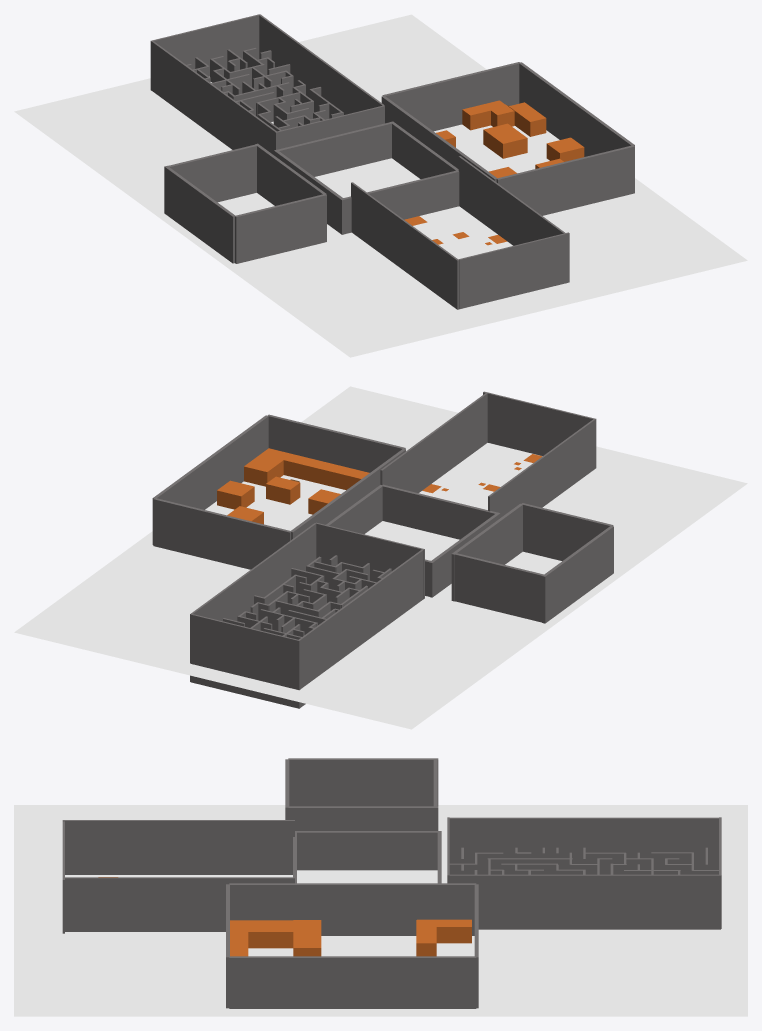
The model's file is blockout.fbx.
3 views of the same model, one above another, from view 1: azimuth 30°, elevation 25°; view 2: azimuth 150°, elevation 25°; view 3: azimuth 270°, elevation 25° (orthographic). The views are drawn at different scales.
Parts seen in each view (by area): view 1: Plane, Cube__2__2, Cube__1_, Cube__94_, Cube__93_, Cube__3__2, Cube__6_, Cube__95_, Cube__1__2, Cube, Cube__4_, Cube__2__1 (+12 smaller); view 2: Plane, Cube__2_, Cube__1_, Cube__3__2, Cube__95_, Cube__94_, Cube__7_, Cube__93_, Cube__2__2, Cube__1__2, Cube, Cube__4_ (+11 smaller); view 3: Plane, Cube, Cube__1__2, Cube__94_, Cube__1_, Cube_2, Cube__95_, Cube__4_, Cube__1__1, Cube__5_, Cube__3__3, Cube__4__2 (+8 smaller).
Part boxes in pixels (<box>): Plane: <box>14,14,747,357</box>; Cube__2__2: <box>496,145,634,215</box>; Cube__1_: <box>151,40,276,154</box>; Cube__94_: <box>351,182,459,309</box>; Cube__93_: <box>458,232,569,309</box>; Cube__3__2: <box>382,62,519,131</box>; Cube__6_: <box>235,194,326,263</box>; Cube__95_: <box>458,156,566,283</box>; Cube__1__2: <box>519,62,634,156</box>; Cube: <box>259,14,384,114</box>; Cube__4_: <box>164,165,235,263</box>; Cube__2__1: <box>277,122,393,176</box>; Plane: <box>14,386,747,729</box>; Cube__2_: <box>190,614,300,708</box>; Cube__1_: <box>298,549,423,707</box>; Cube__3__2: <box>153,498,291,569</box>; Cube__95_: <box>380,393,487,493</box>; Cube__94_: <box>488,418,596,517</box>; Cube__7_: <box>453,553,544,622</box>; Cube__93_: <box>483,391,593,455</box>; Cube__2__2: <box>267,414,405,472</box>; Cube__1__2: <box>152,415,268,544</box>; Cube: <box>190,523,316,681</box>; Cube__4_: <box>542,526,613,623</box>; Plane: <box>14,805,747,1016</box>; Cube: <box>449,874,720,929</box>; Cube__1__2: <box>229,956,476,1008</box>; Cube__94_: <box>62,820,294,874</box>; Cube__1_: <box>449,817,720,869</box>; Cube_2: <box>229,883,476,935</box>; Cube__95_: <box>62,877,294,931</box>; Cube__4_: <box>288,758,438,806</box>; Cube__1__1: <box>295,831,441,870</box>; Cube__5_: <box>288,806,438,830</box>; Cube__3__3: <box>230,920,294,948</box>; Cube__4__2: <box>293,920,321,956</box>.
Bounding box in the file's own units: 7501 × 1221 × 10984.
